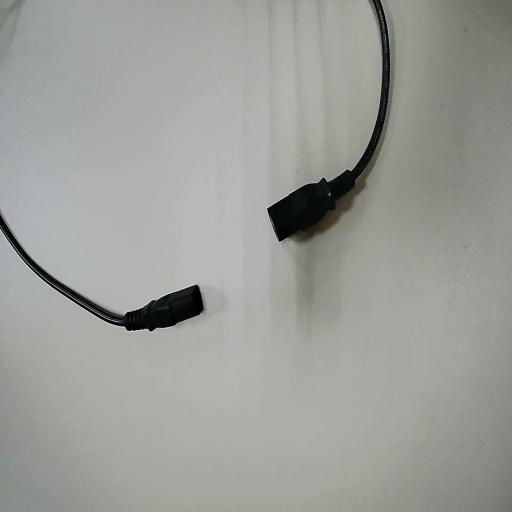wire: (268, 0, 389, 239)
